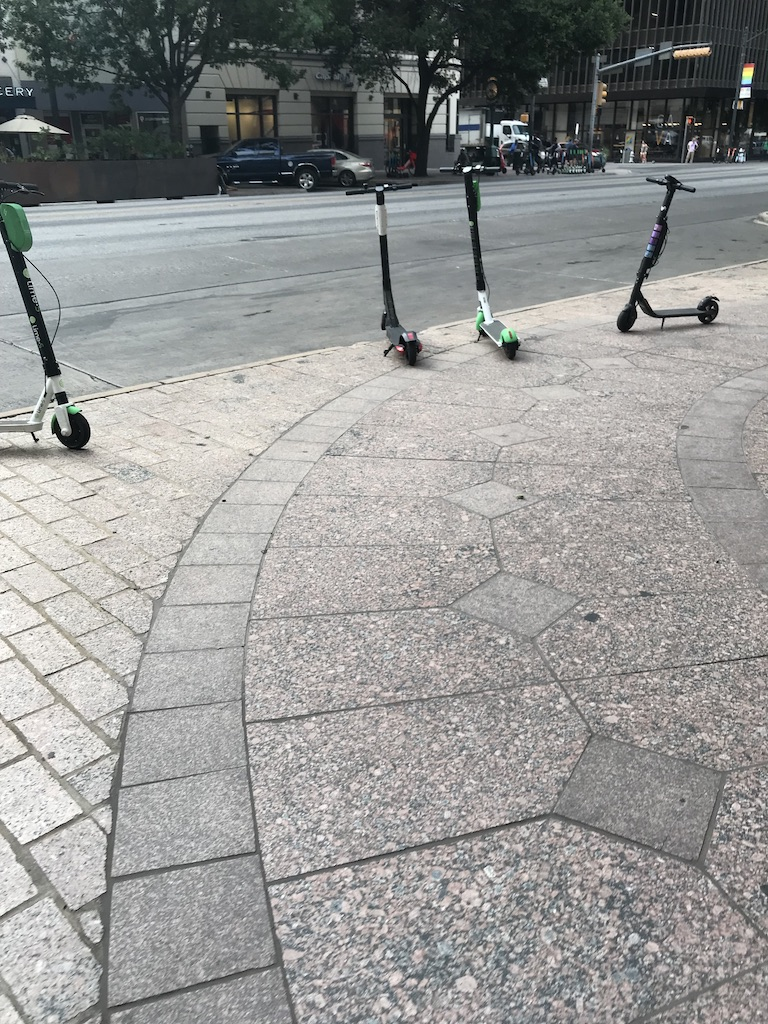scooter: (1, 184, 92, 454), (619, 174, 723, 336), (440, 163, 526, 354), (345, 182, 424, 364)
